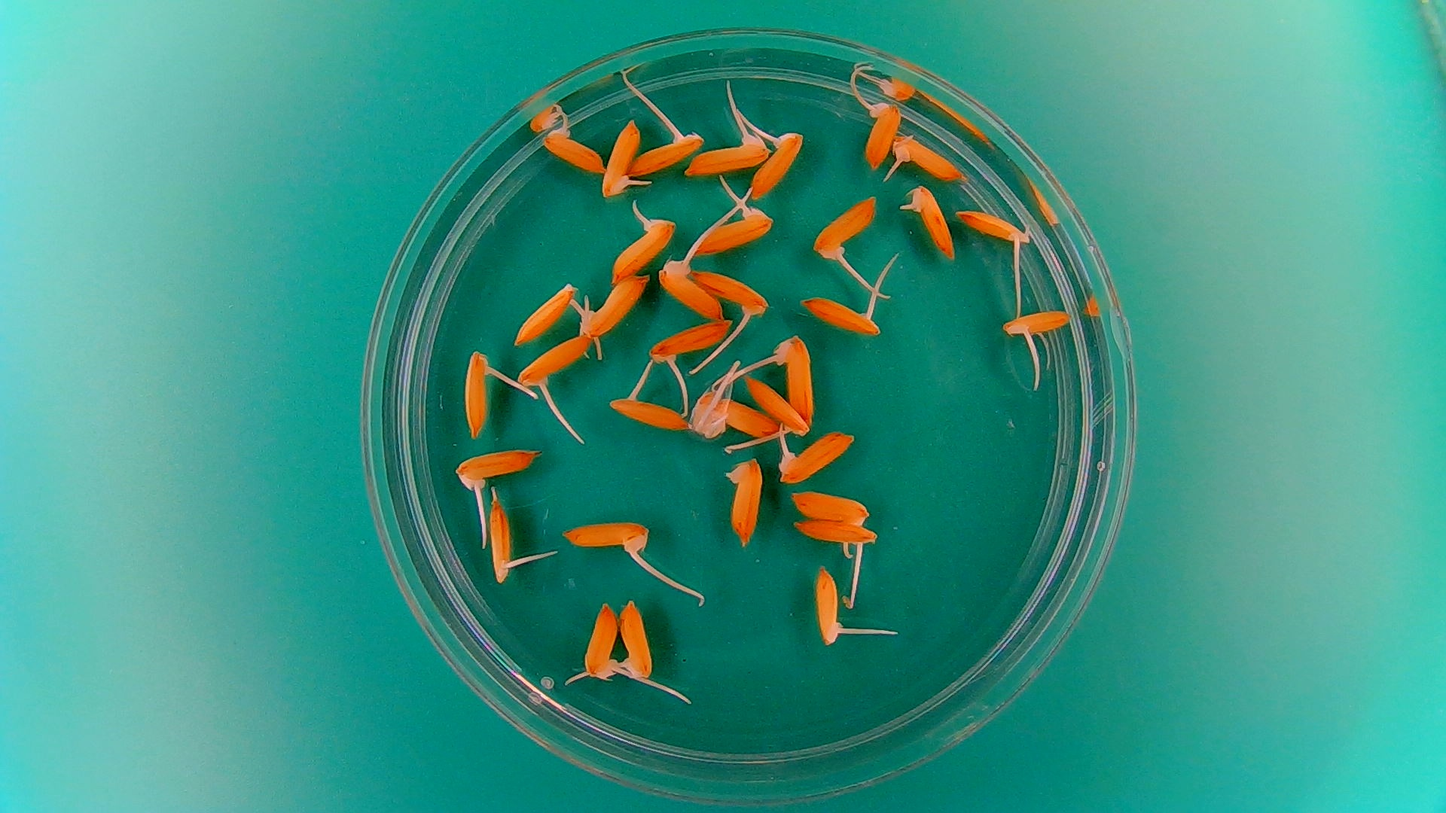no: (719, 452, 764, 549), (787, 488, 875, 526)
yes: (767, 428, 859, 486), (573, 271, 649, 340), (811, 191, 881, 260), (609, 212, 673, 283), (699, 390, 782, 443), (516, 333, 597, 387), (744, 370, 811, 435), (511, 280, 580, 341), (773, 337, 819, 428), (687, 209, 775, 256), (646, 317, 731, 364), (563, 516, 654, 559), (660, 259, 724, 320), (747, 133, 802, 203), (687, 129, 767, 177), (691, 267, 770, 315), (452, 444, 536, 489), (615, 598, 660, 679), (799, 295, 886, 336), (905, 185, 953, 259), (886, 132, 963, 175), (581, 596, 622, 673), (609, 394, 691, 432), (956, 207, 1033, 247), (602, 117, 641, 195), (487, 493, 520, 585), (631, 131, 700, 175), (810, 565, 846, 648), (544, 128, 606, 175), (791, 519, 882, 551), (861, 103, 904, 169), (461, 349, 491, 440), (1005, 305, 1071, 340)
